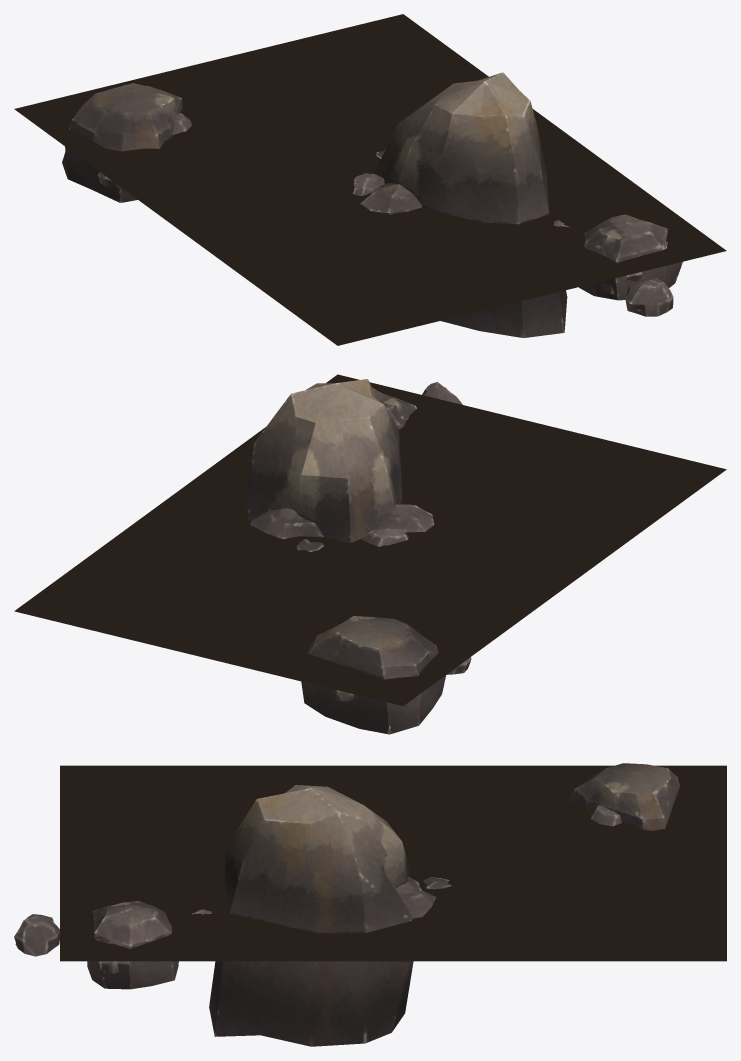
3 views of the same model, one above another, from view 1: azimuth 30°, elevation 25°; view 2: azimuth 150°, elevation 25°; view 3: azimuth 270°, elevation 25° (orthographic). The views are drawn at different scales.
Visible parts, largest first — view 1: GroundShade, Stones; view 2: GroundShade, Stones; view 3: GroundShade, Stones.
Part boxes in pixels (left/top/right/bottom): GroundShade: left=14, top=14, right=726, bottom=345; Stones: left=62, top=72, right=682, bottom=337; GroundShade: left=14, top=374, right=726, bottom=706; Stones: left=245, top=379, right=471, bottom=734; GroundShade: left=60, top=765, right=726, bottom=961; Stones: left=14, top=763, right=679, bottom=1046.
Bounding box in the file's own units: 24.53 × 13.58 × 37.75.
Materials: 2 (2 with a texture image).
